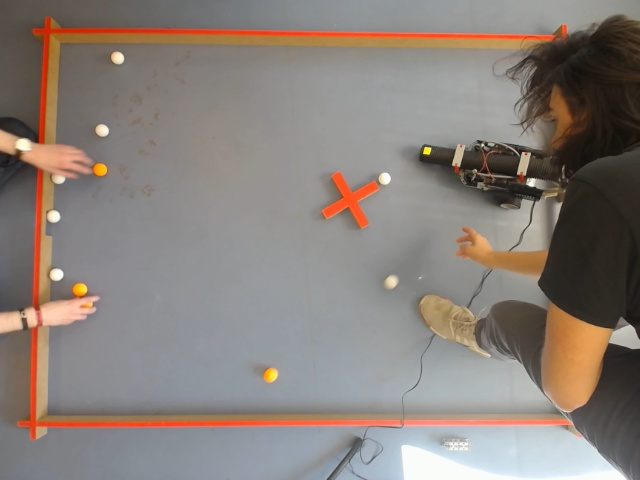orange: (261, 366, 281, 385), (92, 162, 108, 178), (72, 282, 89, 297)
robot-front: (443, 144, 466, 172), (452, 144, 466, 170)
white: (360, 437, 380, 465), (92, 122, 111, 139), (109, 50, 126, 68), (383, 274, 400, 291), (48, 267, 65, 283), (46, 209, 62, 225), (50, 172, 66, 186), (377, 172, 392, 186)
